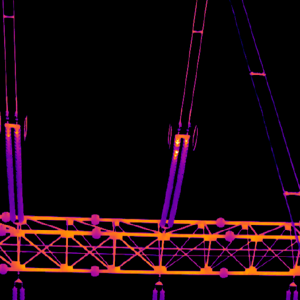insulator: (158, 133, 188, 229), (5, 123, 23, 221)
